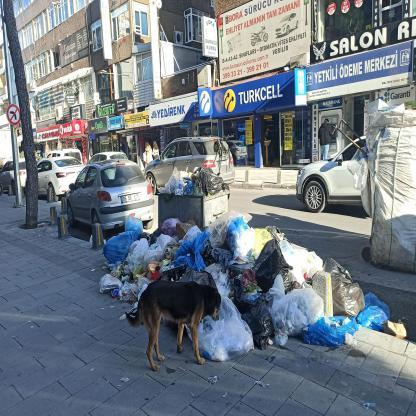Garbage: (231, 229, 307, 336), (122, 230, 268, 276), (270, 272, 320, 340), (326, 252, 364, 320), (165, 162, 225, 196), (302, 315, 357, 352), (198, 323, 254, 353), (222, 220, 258, 262), (358, 290, 394, 330), (173, 235, 211, 269), (255, 306, 277, 354), (127, 243, 158, 267), (154, 225, 176, 257), (103, 224, 127, 252), (192, 166, 213, 192), (99, 269, 118, 297), (168, 163, 181, 193), (126, 217, 144, 235)
